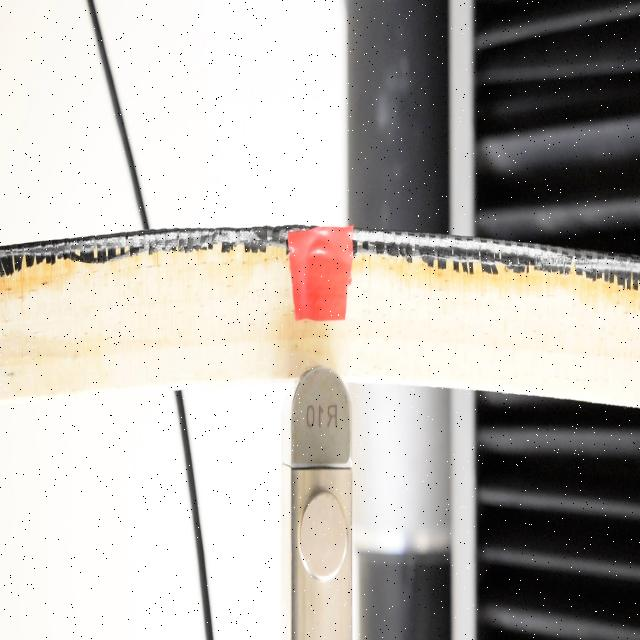wood: (0, 219, 639, 400)
